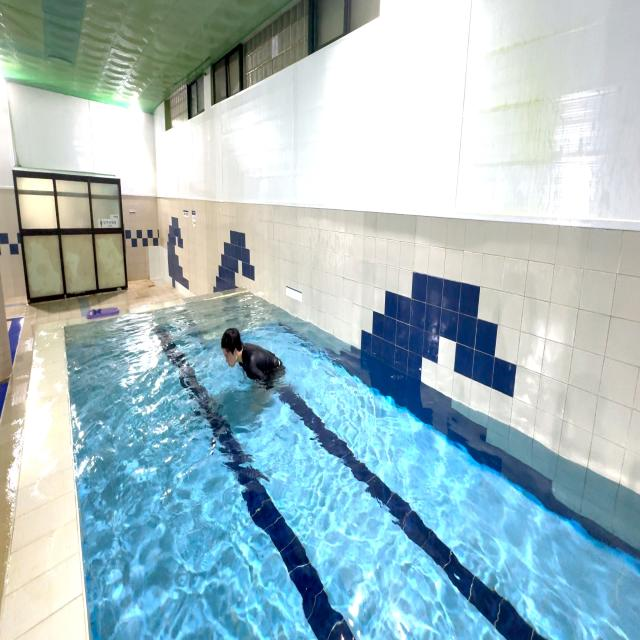Swimming: (221, 326, 287, 387)
